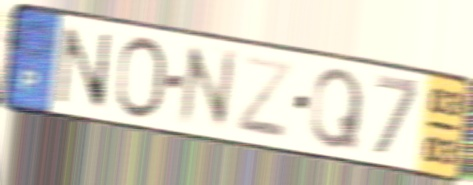7: (370, 71, 424, 161)
N: (175, 41, 239, 132), (55, 23, 113, 114)
O: (111, 33, 169, 123)
Q: (308, 66, 367, 154)
Z: (233, 52, 296, 143)
